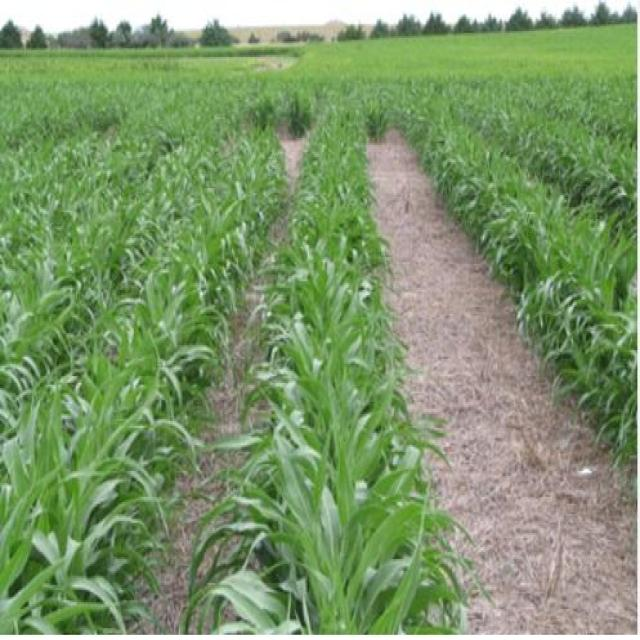row: (370, 124, 637, 637), (94, 124, 309, 640)
